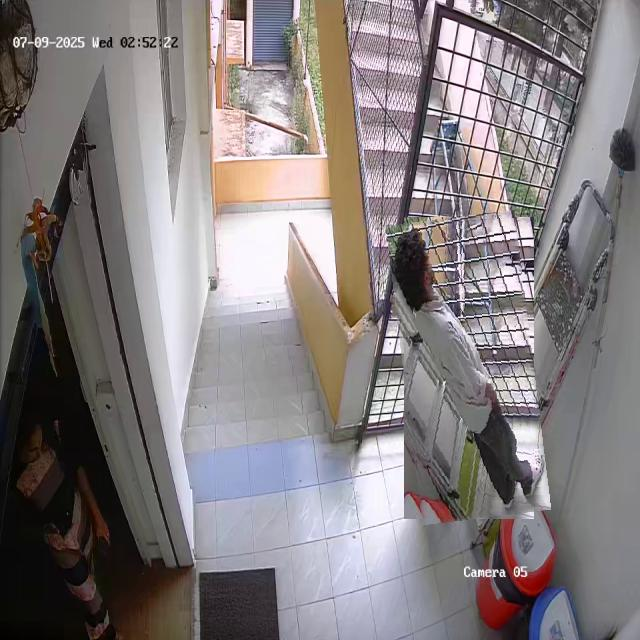person: (395, 214, 543, 522)
